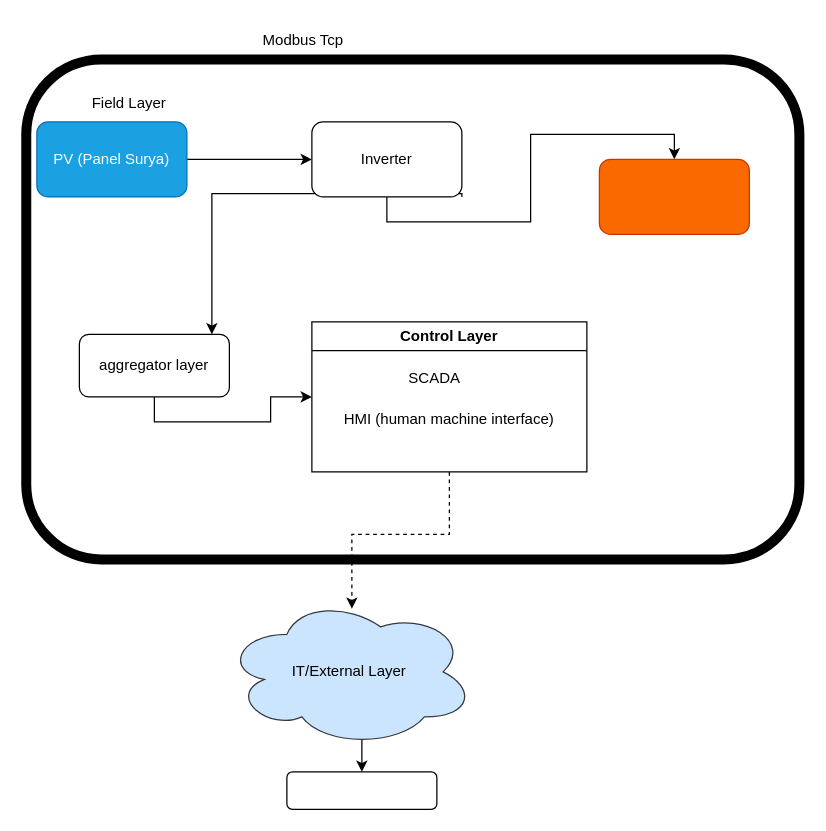
Some shapes in this 826 by 831 pixel diagram are drawn without their labels. The shapes that lost their labels are listed below. From the top down, each one's box as (x1, y1, x2, y2) in pixels, then its label:
(598, 158, 749, 234): Baterai
(286, 771, 437, 809): Internet Kantor
